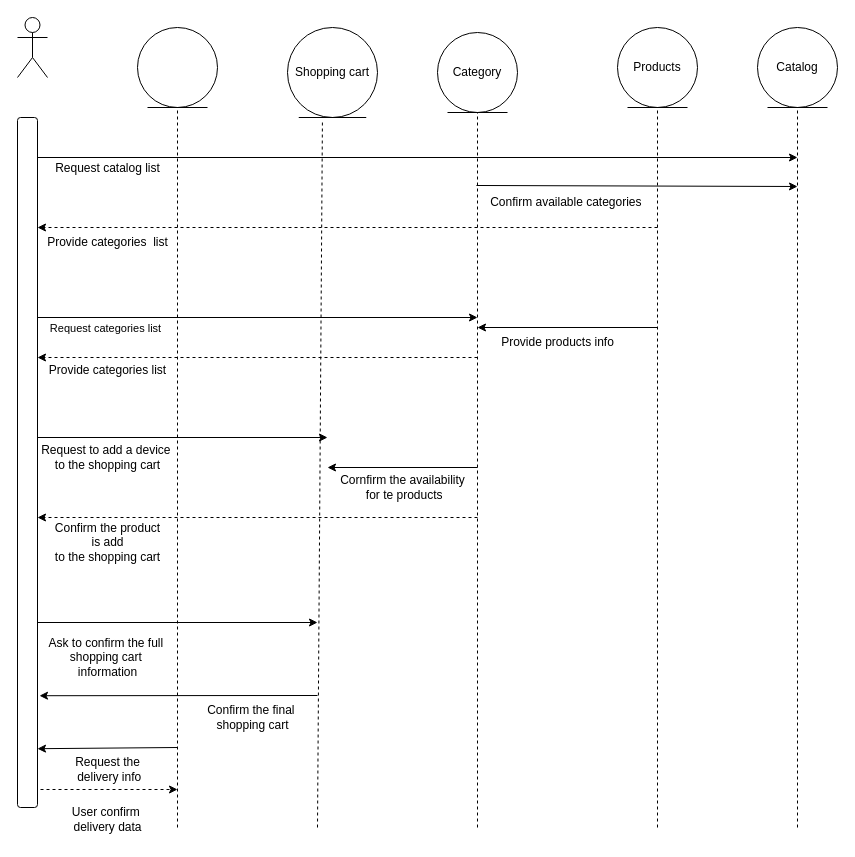
The diagram is 855 pixels wide and 857 high, and some of its shapes have lost their labels. Each missing label, with the centre of its shape:
Actor: [32,47]
Checkout: [177,67]
